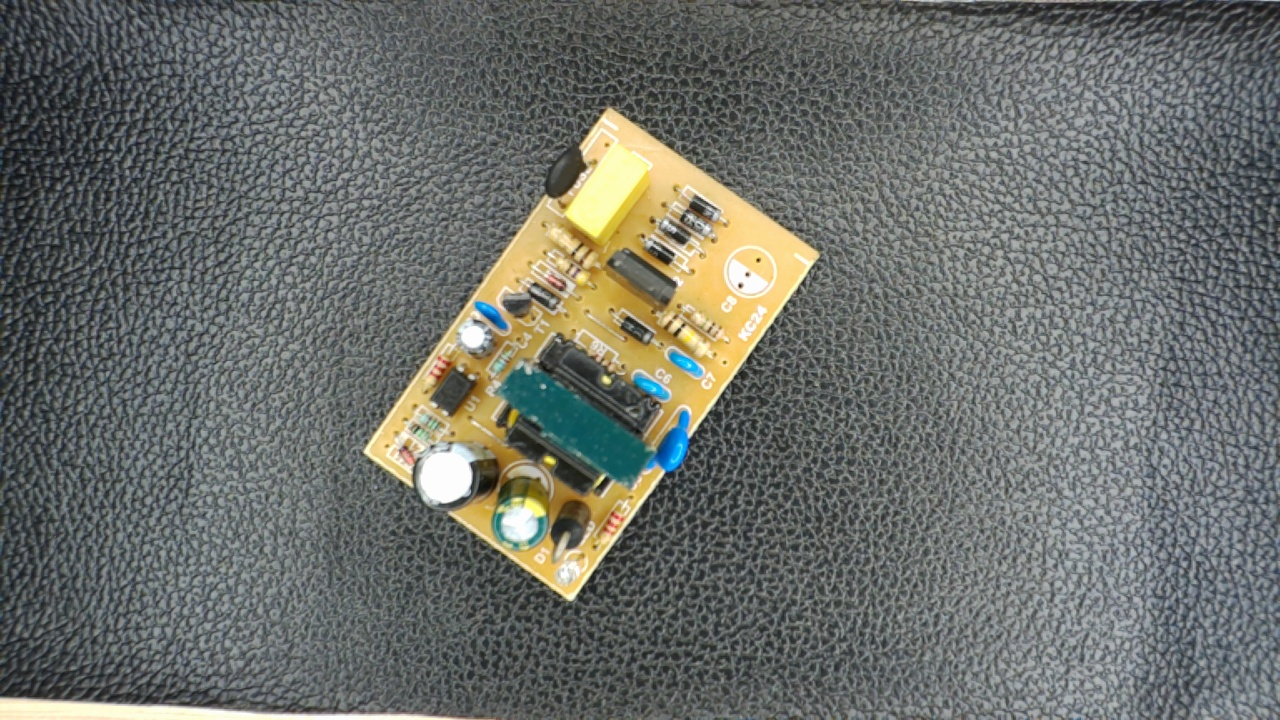fuse: (543, 143, 596, 206)
mov: (644, 404, 696, 479)
optocoupler: (422, 363, 485, 417)
